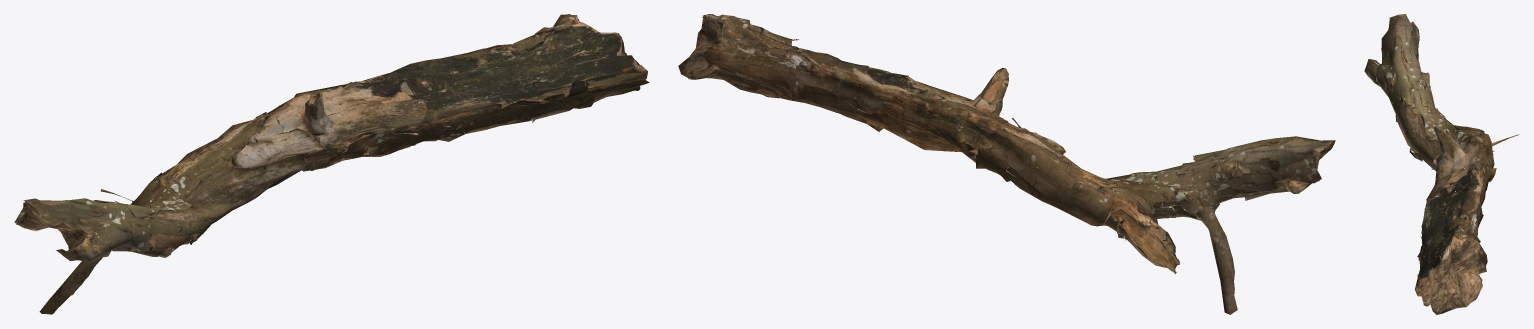
Rendered from log_a.glb.
The picture shows the model from 3 angles, left to right: view 1: azimuth 30°, elevation 25°; view 2: azimuth 150°, elevation 25°; view 3: azimuth 270°, elevation 25°; orthographic projection. The views are drawn at different scales.
Visible parts, largest first — view 1: dead_tree_trunk_02; view 2: dead_tree_trunk_02; view 3: dead_tree_trunk_02.
Part boxes in pixels (x1,y1,x2,y2): dead_tree_trunk_02: (14, 14, 649, 314); dead_tree_trunk_02: (678, 14, 1335, 314); dead_tree_trunk_02: (1364, 14, 1519, 314).
Size of the model in its own units: 4.05 by 1.06 by 1.05.
1 material, 1 textured.
